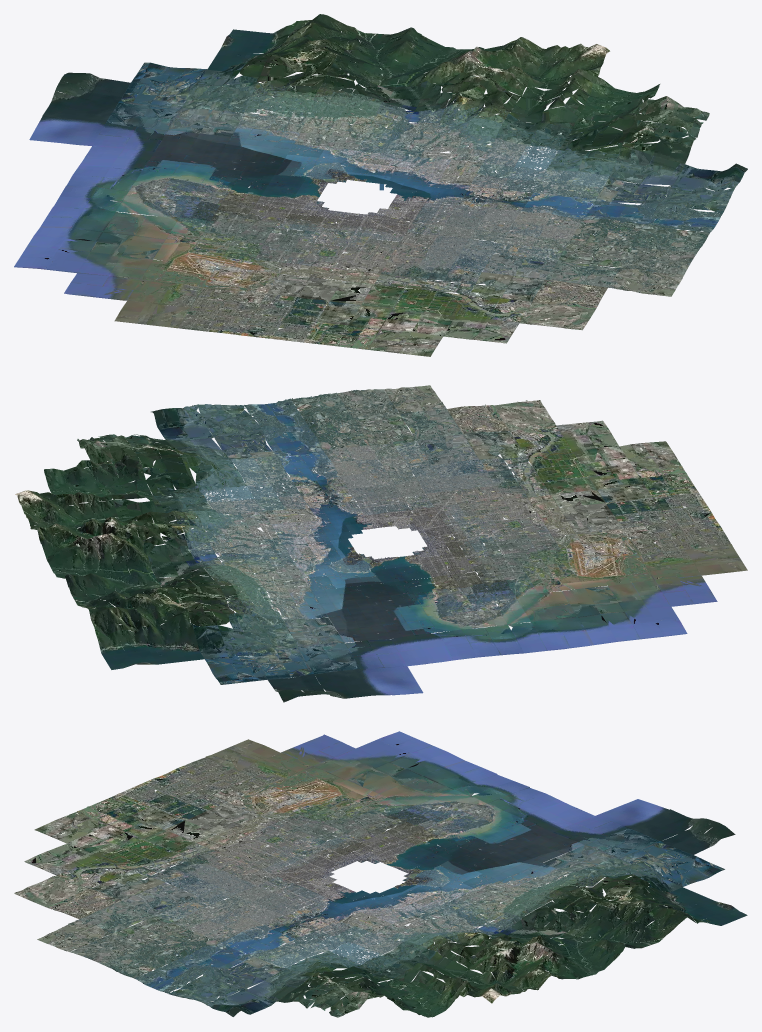
File: foto_fern_handy.glb
3 renders of one model, top to bottom at view 1: azimuth 30°, elevation 25°; view 2: azimuth 150°, elevation 25°; view 3: azimuth 270°, elevation 25°, orthographic. The views are drawn at different scales.
Visible parts, largest first — view 1: k57, k4, k64, k0, k10, k78, k8, k75, k63, k61, k46, k9 (+73 smaller); view 2: k27, k26, k65, k6, k4, k59, k22, k67, k14, k5, k61, k60 (+68 smaller); view 3: k64, k8, k50, k44, k43, k51, k47, k48, k58, k3, k98, k18 (+69 smaller).
Part boxes in pixels (bbox=[...]): k57: bbox=[609, 146, 684, 185]; k4: bbox=[181, 82, 256, 113]; k64: bbox=[496, 113, 571, 150]; k0: bbox=[168, 108, 243, 137]; k10: bbox=[29, 116, 105, 145]; k78: bbox=[532, 279, 607, 309]; k8: bbox=[55, 72, 130, 102]; k75: bbox=[469, 272, 544, 301]; k63: bbox=[509, 96, 584, 129]; k61: bbox=[546, 145, 621, 176]; k46: bbox=[558, 239, 633, 267]; k9: bbox=[42, 91, 117, 122]; k27: bbox=[142, 621, 204, 664]; k26: bbox=[95, 627, 157, 669]; k65: bbox=[143, 454, 199, 495]; k6: bbox=[191, 613, 251, 658]; k4: bbox=[235, 613, 297, 649]; k59: bbox=[151, 405, 212, 440]; k22: bbox=[142, 538, 201, 577]; k67: bbox=[92, 461, 152, 498]; k14: bbox=[531, 616, 593, 650]; k5: bbox=[251, 646, 313, 679]; k61: bbox=[183, 454, 246, 491]; k60: bbox=[197, 404, 260, 436]; k64: bbox=[361, 942, 435, 978]; k8: bbox=[661, 818, 735, 854]; k50: bbox=[102, 946, 177, 978]; k44: bbox=[122, 882, 196, 915]; k43: bbox=[555, 912, 628, 948]; k51: bbox=[135, 960, 209, 993]; k47: bbox=[79, 901, 154, 933]; k48: bbox=[37, 919, 111, 951]; k58: bbox=[211, 956, 285, 988]; k3: bbox=[651, 855, 724, 886]; k98: bbox=[313, 748, 389, 780]; k18: bbox=[522, 900, 590, 937].
Bounding box in the file's own units: 37497 × 2254 × 38819.
Materials: 542 (542 with a texture image).
